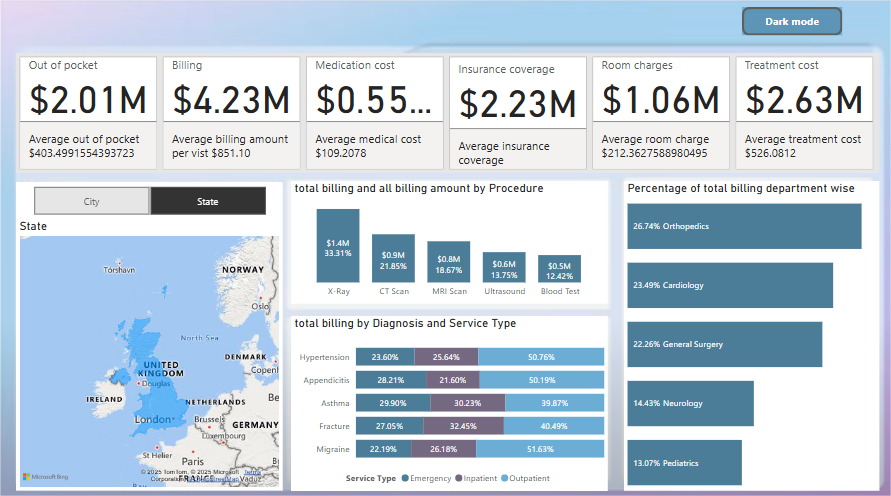

The page's visual inventory and layout, read from the dashboard file:
{"tool":"powerbi","page":{"name":"light mode","canvas":[1280,720],"ordinal":0},"visuals":[{"type":"cardVisual","fields":{"Data":["dax calculation.out of pocket","dax calculation.total billing","dax calculation.Total medication cost","dax calculation.total insurance coverage","dax calculation.total room charges","dax calculation.total treatment cost"]},"box":[28.1,82.5,1223.8,170.3],"z":0},{"type":"columnChart","fields":{"Category":["procedures.Procedure"],"Y":["dax calculation.total billing","dax calculation.all billing amount"]},"box":[417.9,263.4,449.5,173.8],"z":1000},{"type":"filledMap","fields":{"Category":["cities.State"]},"box":[28.1,317.8,377.5,384.5],"z":2000},{"type":"slicer","fields":{"Values":["Patients location.state,city"]},"box":[28.1,265.1,377.5,52.7],"z":3000},{"type":"barChart","title":"Percentage of total billing department wise","fields":{"Category":["departments.Department"],"Y":["dax calculation.total billing","dax calculation.% department"]},"box":[890.2,263.4,361.7,439],"z":4000},{"type":"hundredPercentStackedBarChart","fields":{"Category":["diagnoses.Diagnosis"],"Y":["dax calculation.total billing"],"Series":["visit.Service Type"]},"box":[417.9,454.8,449.5,247.6],"z":5000},{"type":"actionButton","box":[1057,17.6,142.2,40.4],"z":6000}]}

Visuals, with their boxes in screenshot pixels (x1, y1, x2, y2), scaled from the page's 1280x720 canvas onto the 891x496 screenshot:
cardVisual - dax calculation.out of pocket x dax calculation.total billing: 20, 57, 871, 174
columnChart - procedures.Procedure x dax calculation.total billing: 291, 181, 604, 301
filledMap - cities.State: 20, 219, 282, 484
slicer - Patients location.state,city: 20, 183, 282, 219
"Percentage of total billing department wise" barChart: 620, 181, 871, 484
hundredPercentStackedBarChart - diagnoses.Diagnosis x dax calculation.total billing: 291, 313, 604, 484
actionButton: 736, 12, 835, 40
